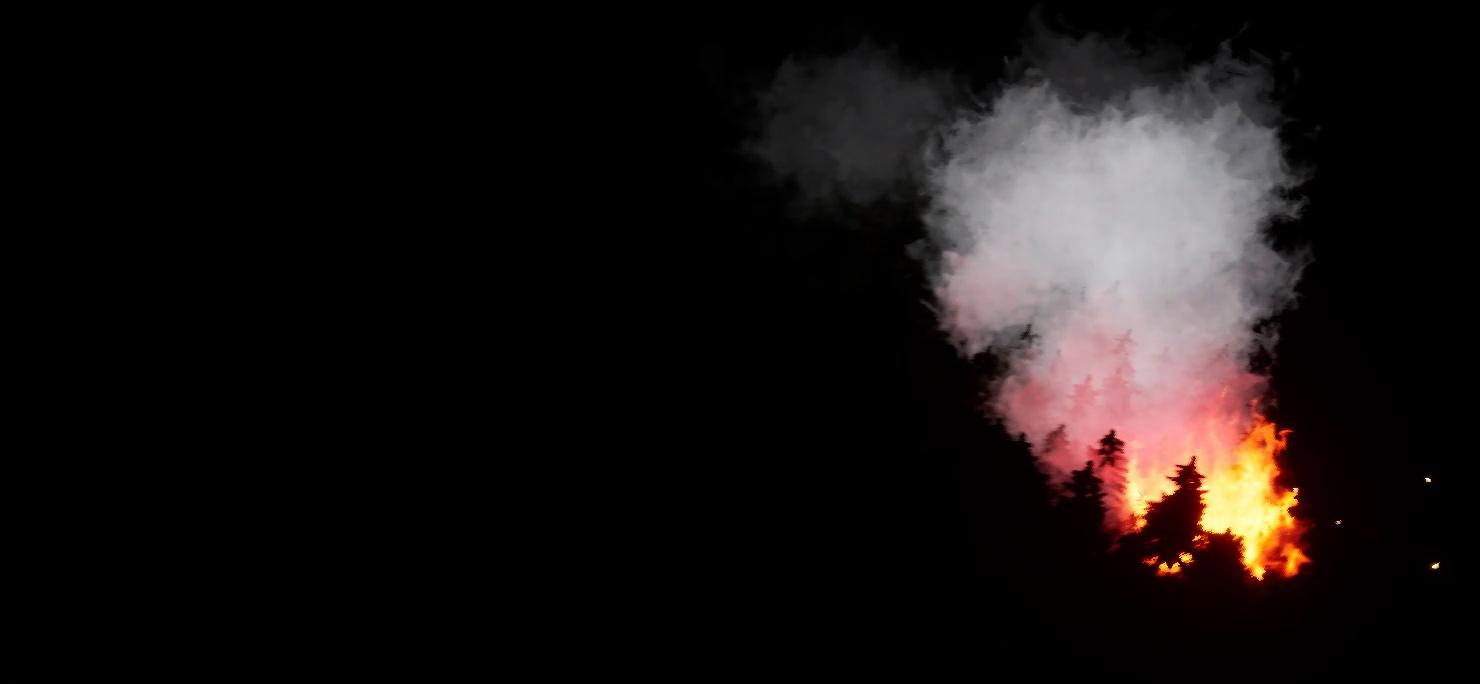fire: (1122, 429, 1319, 581)
smoke: (765, 32, 1299, 504)
